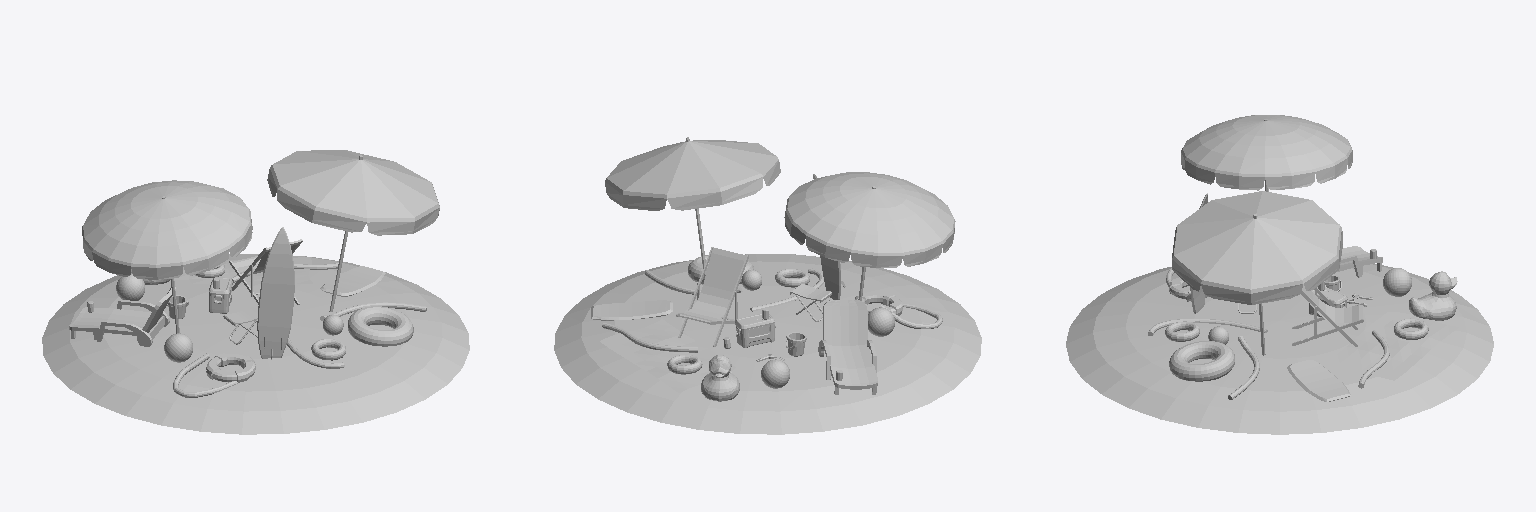
Rendered from 海滩道具.obj.
3 renders of one model, left to right at view 1: azimuth 30°, elevation 25°; view 2: azimuth 150°, elevation 25°; view 3: azimuth 270°, elevation 25°, orthographic.
Parts seen in each view (by area): view 1: 28__SAND_28__SAND_48_28__SAND, 2__Plane_006_Beach_Pr_2__Plane_006_Beach_Pr_3_2__Plane_006_Beach, 3__Plane_007_Beach_Pr_3__Plane_007_Beach_Pr_5_3__Plane_007_Beach, 10__Cube_005_Beach_Pr_10__Cube_005_Beach_Pr_19_10__Cube_005_Beac, 1__Beach_Props_1__Beach_Props_1_1__Beach_Props, 13__Floaters_13__Floaters_24_13__Floaters, 12__Plane_008_Beach_P_12__Plane_008_Beach_P_23_12__Plane_008_Bea, 11__Cube_006_Beach_Pr_11__Cube_006_Beach_Pr_21_11__Cube_006_Beac, 17__Cylinder_005_Floa_17__Cylinder_005_Floa_31_17__Cylinder_005_, 4__Cube_002_Beach_Pro_4__Cube_002_Beach_Pro_7_4__Cube_002_Beach_, 9__Cube_003_Beach_Pro_9__Cube_003_Beach_Pro_17_9__Cube_003_Beach, 16__Sphere_005_Floate_16__Sphere_005_Floate_29_16__Sphere_005_Fl (+4 smaller); view 2: 28__SAND_28__SAND_48_28__SAND, 2__Plane_006_Beach_Pr_2__Plane_006_Beach_Pr_3_2__Plane_006_Beach, 3__Plane_007_Beach_Pr_3__Plane_007_Beach_Pr_5_3__Plane_007_Beach, 1__Beach_Props_1__Beach_Props_1_1__Beach_Props, 12__Plane_008_Beach_P_12__Plane_008_Beach_P_23_12__Plane_008_Bea, 4__Cube_002_Beach_Pro_4__Cube_002_Beach_Pro_7_4__Cube_002_Beach_, 11__Cube_006_Beach_Pr_11__Cube_006_Beach_Pr_21_11__Cube_006_Beac, 19__Plane_009_Floater_19__Plane_009_Floater_34_19__Plane_009_Flo, 9__Cube_003_Beach_Pro_9__Cube_003_Beach_Pro_17_9__Cube_003_Beach, 10__Cube_005_Beach_Pr_10__Cube_005_Beach_Pr_19_10__Cube_005_Beac, 14__Sphere_003_Floate_14__Sphere_003_Floate_25_14__Sphere_003_Fl, 16__Sphere_005_Floate_16__Sphere_005_Floate_29_16__Sphere_005_Fl (+4 smaller); view 3: 28__SAND_28__SAND_48_28__SAND, 3__Plane_007_Beach_Pr_3__Plane_007_Beach_Pr_5_3__Plane_007_Beach, 2__Plane_006_Beach_Pr_2__Plane_006_Beach_Pr_3_2__Plane_006_Beach, 12__Plane_008_Beach_P_12__Plane_008_Beach_P_23_12__Plane_008_Bea, 13__Floaters_13__Floaters_24_13__Floaters, 4__Cube_002_Beach_Pro_4__Cube_002_Beach_Pro_7_4__Cube_002_Beach_, 11__Cube_006_Beach_Pr_11__Cube_006_Beach_Pr_21_11__Cube_006_Beac, 19__Plane_009_Floater_19__Plane_009_Floater_34_19__Plane_009_Flo, 1__Beach_Props_1__Beach_Props_1_1__Beach_Props, 14__Sphere_003_Floate_14__Sphere_003_Floate_25_14__Sphere_003_Fl, 18__Torus_005_Floater_18__Torus_005_Floater_33_18__Torus_005_Flo, 20__Torus_006_Floater_20__Torus_006_Floater_36_20__Torus_006_Flo.
Part boxes in pixels (bbox=[...]): 28__SAND_28__SAND_48_28__SAND: bbox=[42, 254, 469, 434]; 2__Plane_006_Beach_Pr_2__Plane_006_Beach_Pr_3_2__Plane_006_Beach: bbox=[82, 180, 252, 333]; 3__Plane_007_Beach_Pr_3__Plane_007_Beach_Pr_5_3__Plane_007_Beach: bbox=[267, 150, 439, 311]; 10__Cube_005_Beach_Pr_10__Cube_005_Beach_Pr_19_10__Cube_005_Beac: bbox=[257, 227, 294, 359]; 1__Beach_Props_1__Beach_Props_1_1__Beach_Props: bbox=[69, 286, 175, 346]; 13__Floaters_13__Floaters_24_13__Floaters: bbox=[348, 306, 413, 346]; 12__Plane_008_Beach_P_12__Plane_008_Beach_P_23_12__Plane_008_Bea: bbox=[174, 257, 312, 287]; 11__Cube_006_Beach_Pr_11__Cube_006_Beach_Pr_21_11__Cube_006_Beac: bbox=[320, 266, 385, 296]; 17__Cylinder_005_Floa_17__Cylinder_005_Floa_31_17__Cylinder_005_: bbox=[206, 353, 255, 382]; 4__Cube_002_Beach_Pro_4__Cube_002_Beach_Pro_7_4__Cube_002_Beach_: bbox=[229, 239, 302, 304]; 9__Cube_003_Beach_Pro_9__Cube_003_Beach_Pro_17_9__Cube_003_Beach: bbox=[209, 277, 232, 313]; 16__Sphere_005_Floate_16__Sphere_005_Floate_29_16__Sphere_005_Fl: bbox=[164, 333, 192, 362]; 28__SAND_28__SAND_48_28__SAND: bbox=[554, 254, 981, 434]; 2__Plane_006_Beach_Pr_2__Plane_006_Beach_Pr_3_2__Plane_006_Beach: bbox=[784, 172, 955, 300]; 3__Plane_007_Beach_Pr_3__Plane_007_Beach_Pr_5_3__Plane_007_Beach: bbox=[605, 137, 780, 278]; 1__Beach_Props_1__Beach_Props_1_1__Beach_Props: bbox=[818, 300, 877, 394]; 12__Plane_008_Beach_P_12__Plane_008_Beach_P_23_12__Plane_008_Bea: bbox=[600, 319, 735, 392]; 4__Cube_002_Beach_Pro_4__Cube_002_Beach_Pro_7_4__Cube_002_Beach_: bbox=[676, 247, 748, 346]; 11__Cube_006_Beach_Pr_11__Cube_006_Beach_Pr_21_11__Cube_006_Beac: bbox=[591, 300, 672, 320]; 19__Plane_009_Floater_19__Plane_009_Floater_34_19__Plane_009_Flo: bbox=[701, 355, 739, 401]; 9__Cube_003_Beach_Pro_9__Cube_003_Beach_Pro_17_9__Cube_003_Beach: bbox=[735, 314, 775, 347]; 10__Cube_005_Beach_Pr_10__Cube_005_Beach_Pr_19_10__Cube_005_Beac: bbox=[813, 174, 845, 299]; 14__Sphere_003_Floate_14__Sphere_003_Floate_25_14__Sphere_003_Fl: bbox=[761, 359, 789, 388]; 16__Sphere_005_Floate_16__Sphere_005_Floate_29_16__Sphere_005_Fl: bbox=[868, 307, 894, 336]; 28__SAND_28__SAND_48_28__SAND: bbox=[1066, 264, 1493, 434]; 3__Plane_007_Beach_Pr_3__Plane_007_Beach_Pr_5_3__Plane_007_Beach: bbox=[1172, 191, 1342, 355]; 2__Plane_006_Beach_Pr_2__Plane_006_Beach_Pr_3_2__Plane_006_Beach: bbox=[1181, 115, 1352, 191]; 12__Plane_008_Beach_P_12__Plane_008_Beach_P_23_12__Plane_008_Bea: bbox=[1329, 312, 1458, 380]; 13__Floaters_13__Floaters_24_13__Floaters: bbox=[1169, 341, 1234, 381]; 4__Cube_002_Beach_Pro_4__Cube_002_Beach_Pro_7_4__Cube_002_Beach_: bbox=[1292, 284, 1363, 346]; 11__Cube_006_Beach_Pr_11__Cube_006_Beach_Pr_21_11__Cube_006_Beac: bbox=[1287, 360, 1350, 401]; 19__Plane_009_Floater_19__Plane_009_Floater_34_19__Plane_009_Flo: bbox=[1409, 271, 1457, 320]; 1__Beach_Props_1__Beach_Props_1_1__Beach_Props: bbox=[1337, 246, 1382, 277]; 14__Sphere_003_Floate_14__Sphere_003_Floate_25_14__Sphere_003_Fl: bbox=[1383, 268, 1411, 296]; 18__Torus_005_Floater_18__Torus_005_Floater_33_18__Torus_005_Flo: bbox=[1394, 318, 1428, 339]; 20__Torus_006_Floater_20__Torus_006_Floater_36_20__Torus_006_Flo: bbox=[1165, 321, 1199, 341].
Size of the model in its own units: 1140 by 518 by 1140.